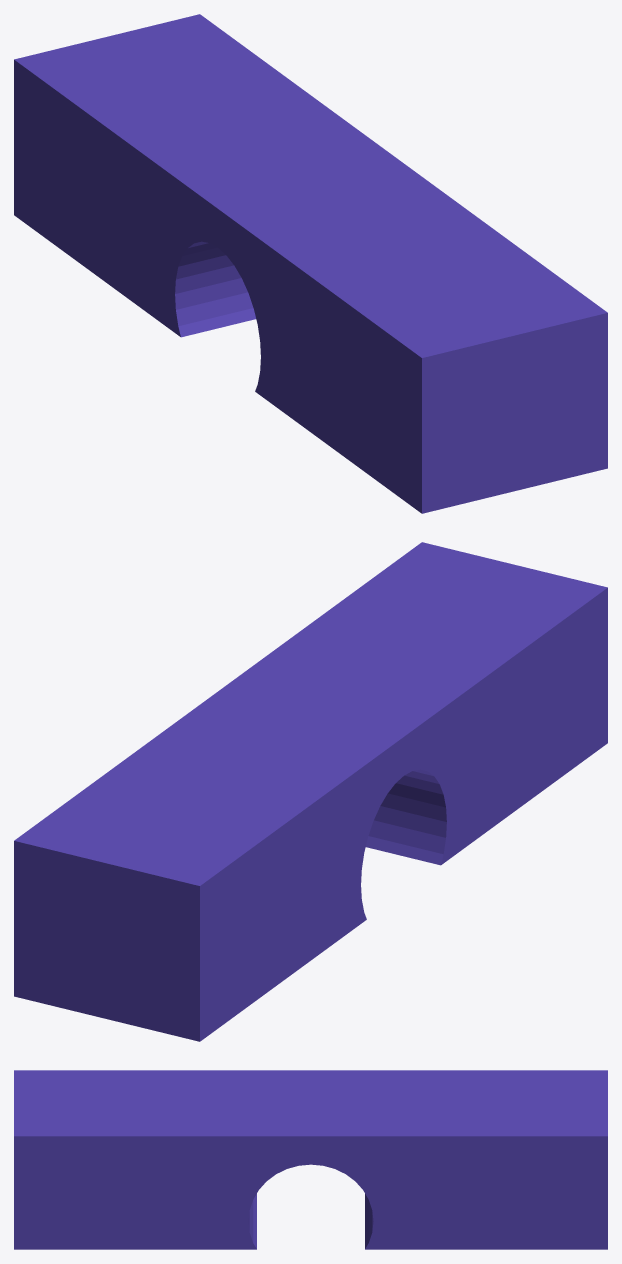
The model's file is tunnel_wide.fbx.
3 views of the same model, one above another, from view 1: azimuth 30°, elevation 25°; view 2: azimuth 150°, elevation 25°; view 3: azimuth 270°, elevation 25° (orthographic). The views are drawn at different scales.
Parts seen in each view (by area): view 1: Plane; view 2: Plane; view 3: Plane.
Boxes of the visible parts, bbox=[...] form: Plane: bbox=[14, 14, 607, 513]; Plane: bbox=[14, 542, 607, 1041]; Plane: bbox=[14, 1070, 607, 1249].
Size of the model in its own units: 100 by 80 by 380.
